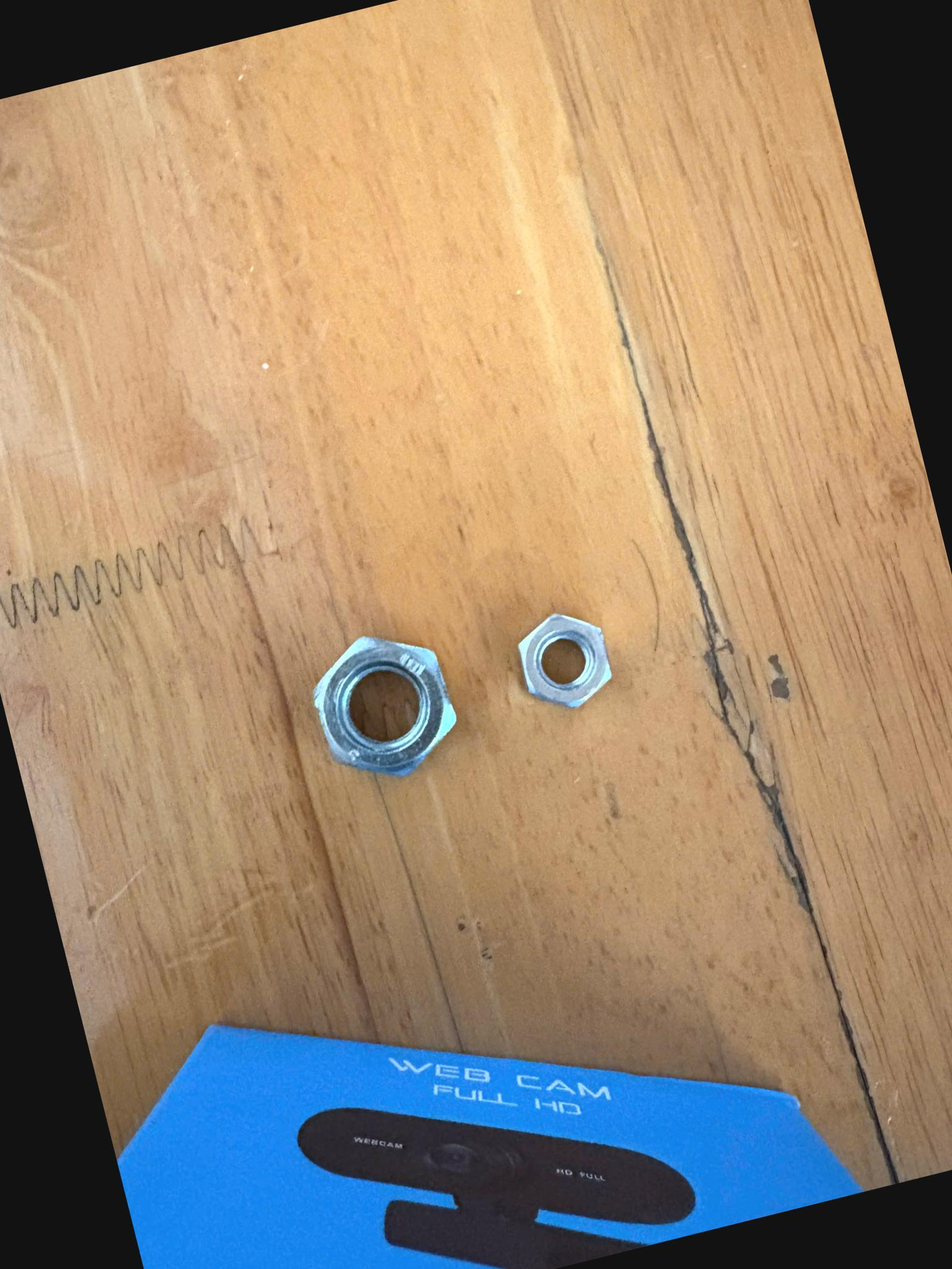nut: (274, 600, 497, 819), (500, 599, 633, 727)
